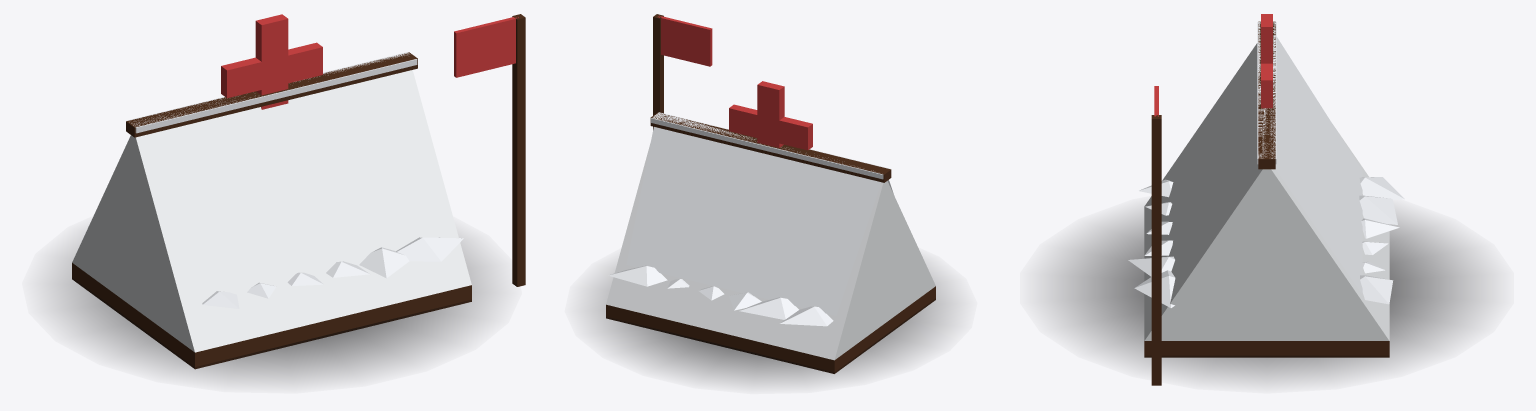
File: infirmary_t0.glb
3 views of the same model, side by side, from view 1: azimuth 30°, elevation 25°; view 2: azimuth 150°, elevation 25°; view 3: azimuth 270°, elevation 25° (orthographic). The views are drawn at different scales.
Visible parts, largest first — view 1: infirmary_t0; view 2: infirmary_t0; view 3: infirmary_t0.
Boxes of the visible parts, left/top/right/bottom form: infirmary_t0: left=53, top=14, right=525, bottom=380; infirmary_t0: left=590, top=14, right=951, bottom=383; infirmary_t0: left=1050, top=14, right=1483, bottom=385.
Bounding box in the file's own units: 4.2 × 2.43 × 4.16.
